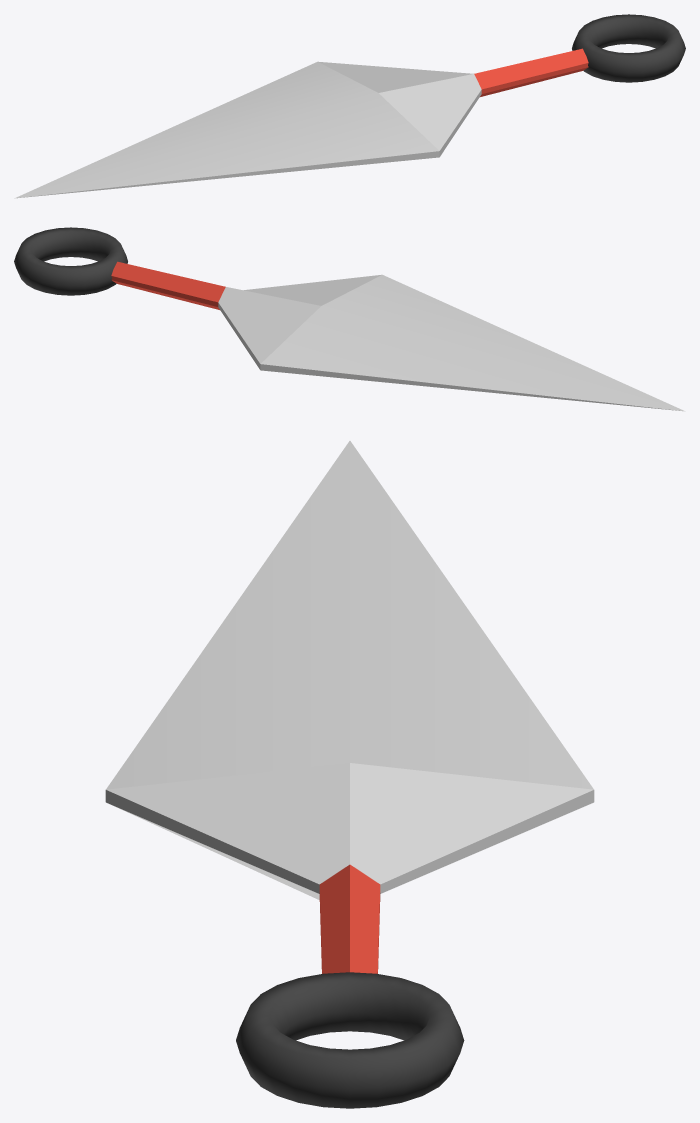
The model's file is Blade.fbx.
3 renders of one model, top to bottom at view 1: azimuth 30°, elevation 25°; view 2: azimuth 150°, elevation 25°; view 3: azimuth 270°, elevation 25°, orthographic. The views are drawn at different scales.
Visible parts, largest first — view 1: Box006; view 2: Box006; view 3: Box006.
Boxes of the visible parts, x1,y1,x2,y2 form: Box006: (14,14,685,198); Box006: (14,227,685,411); Box006: (105,441,594,1108).
Bounding box in the file's own units: 209 × 9.99 × 66.69.
